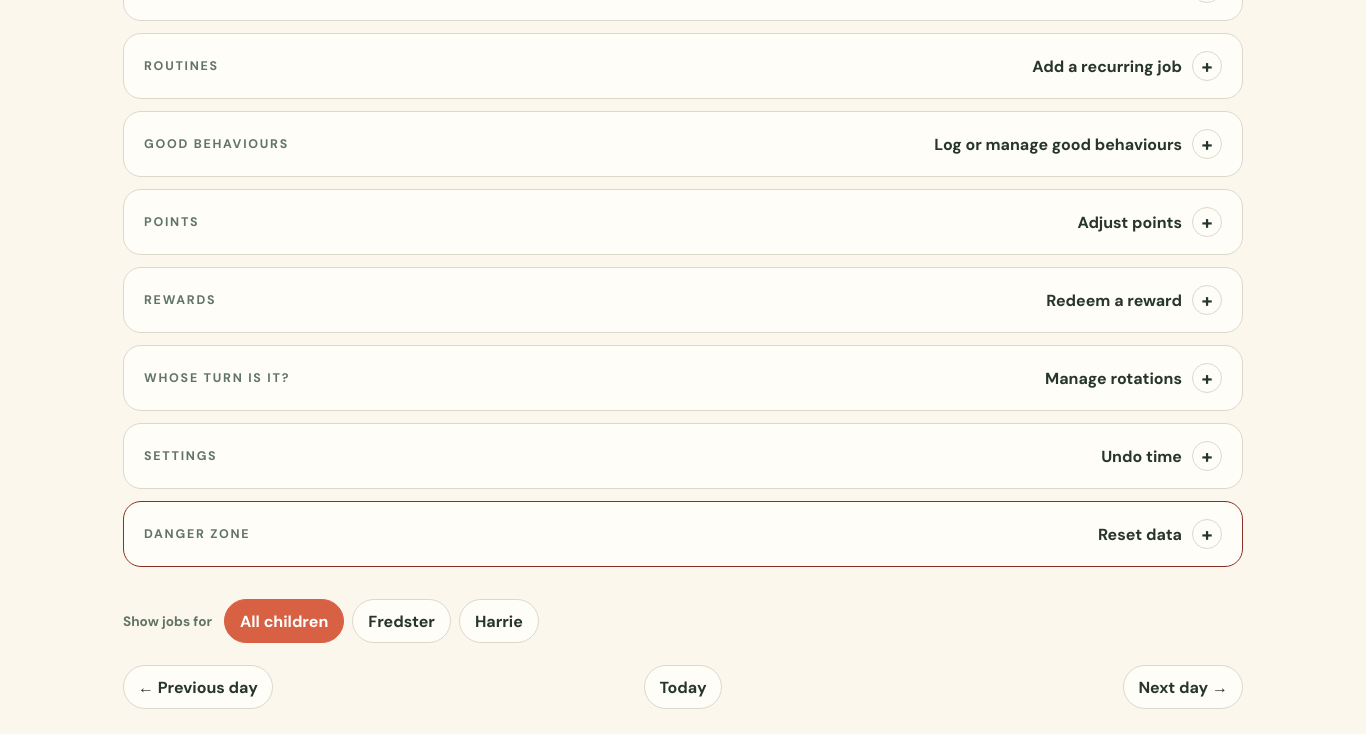
Test case: Whose Turn Is It? › keeps Edit and End for a tick-based rotation that hasn't ended
(page scrolled)
Click the text "Manage rotations": (1134, 378) [1045, 363, 1222, 393]
(page scrolled)
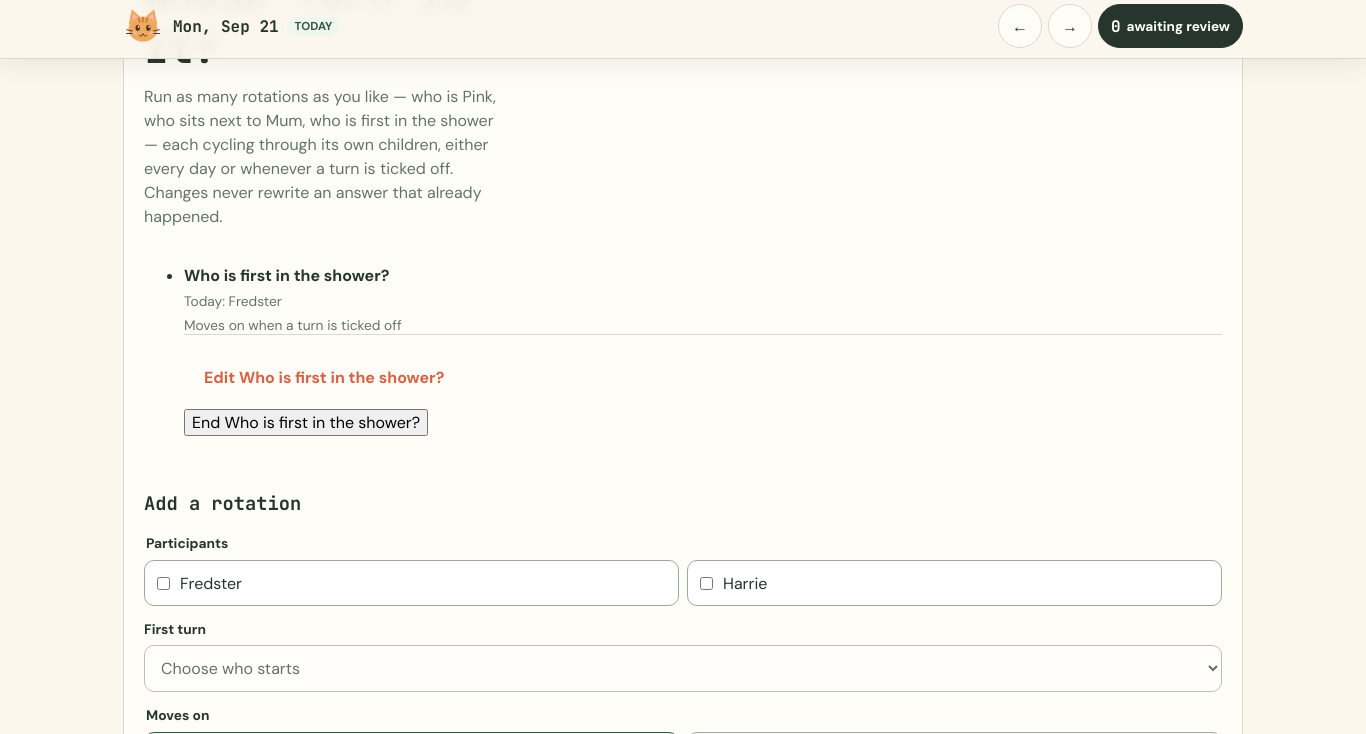
Check: the heading "Edit Who is first in the shower?" is shown, box [204, 366, 444, 388]
Check: the button "End Who is first in the shower?" is shown, box [184, 409, 428, 436]
